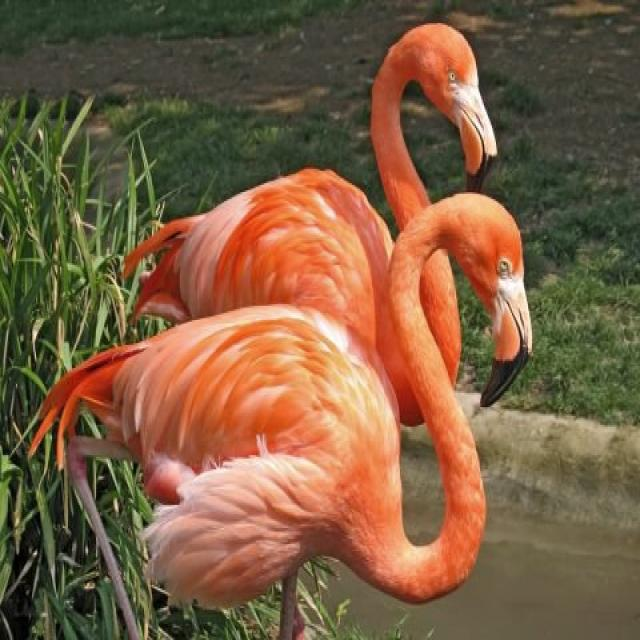flamingo: (33, 192, 532, 638), (127, 23, 497, 423)
